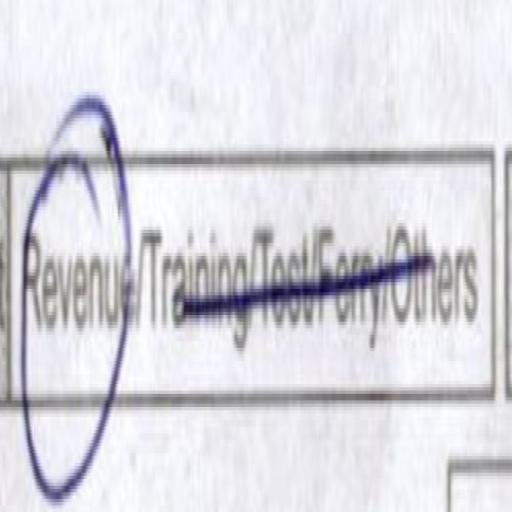check: (17, 91, 136, 461)
